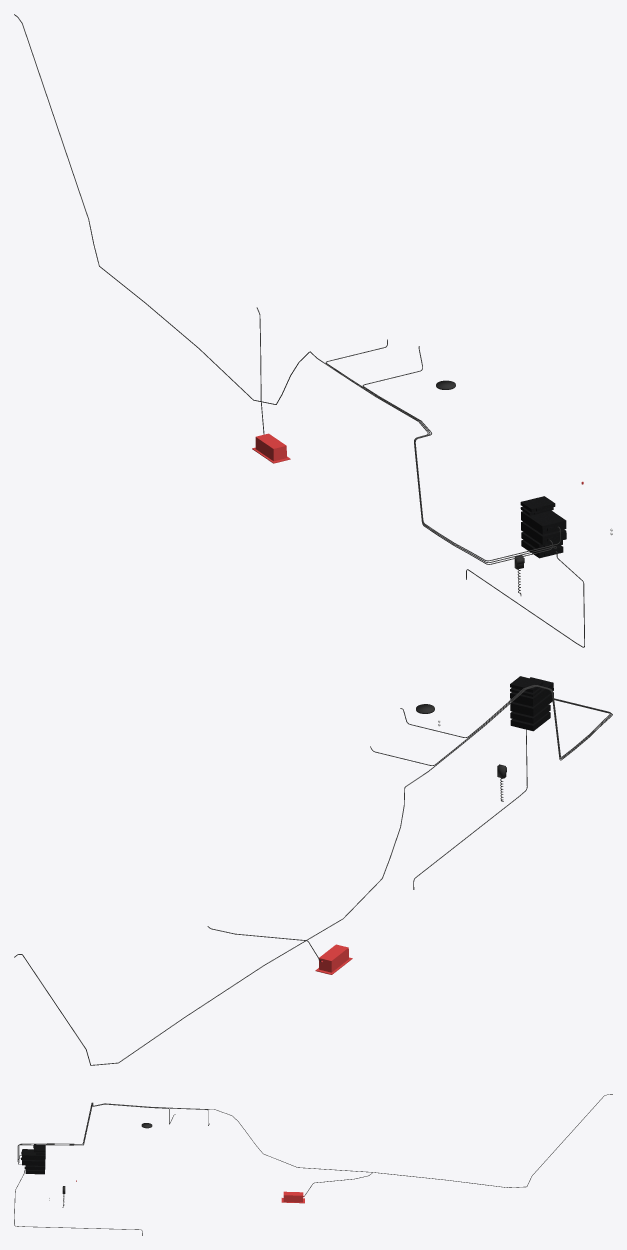
The model's file is AVIONICS.glb.
3 renders of one model, top to bottom at view 1: azimuth 30°, elevation 25°; view 2: azimuth 150°, elevation 25°; view 3: azimuth 270°, elevation 25°, orthographic. The views are drawn at different scales.
Visible parts, largest first — view 1: AVIONICS.coax_nav; view 2: AVIONICS.coax_nav, AVIONICS.elt, AVIONICS.coax_adf; view 3: AVIONICS.coax_nav, AVIONICS.coax_com, AVIONICS.coax_adf, AVIONICS.elt, PANEL.radio_COMNAV1.chassis, AVIONICS.coax_transponder.
Boxes of the visible parts, bbox=[...] form: AVIONICS.coax_nav: bbox=[93, 243, 552, 564]; AVIONICS.coax_nav: bbox=[91, 686, 612, 1065]; AVIONICS.elt: bbox=[315, 944, 352, 974]; AVIONICS.coax_adf: bbox=[370, 685, 611, 765]; AVIONICS.coax_nav: bbox=[17, 1103, 526, 1187]; AVIONICS.coax_com: bbox=[19, 1103, 175, 1162]; AVIONICS.coax_adf: bbox=[18, 1103, 209, 1164]; AVIONICS.elt: bbox=[281, 1191, 304, 1203]; PANEL.radio_COMNAV1.chassis: bbox=[21, 1149, 45, 1160]; AVIONICS.coax_transponder: bbox=[14, 1170, 142, 1235].
Size of the model in its own units: 1.02 by 1.55 by 6.14.
5 materials, 1 textured.
